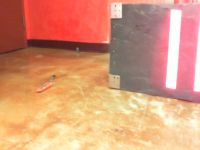switch: (165, 9, 182, 89), (193, 17, 200, 92)
